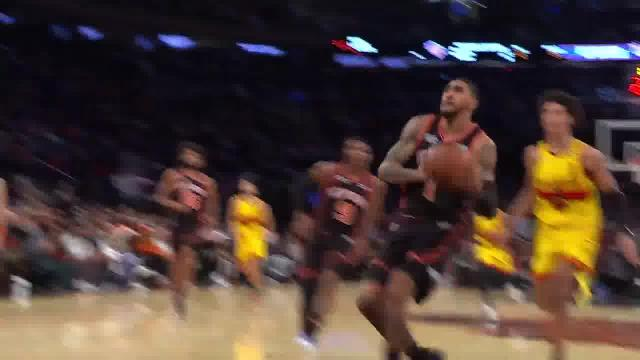ball-handler: (344, 66, 498, 360)
player: (504, 89, 620, 360), (296, 136, 389, 356), (152, 140, 222, 324), (224, 169, 282, 311)
